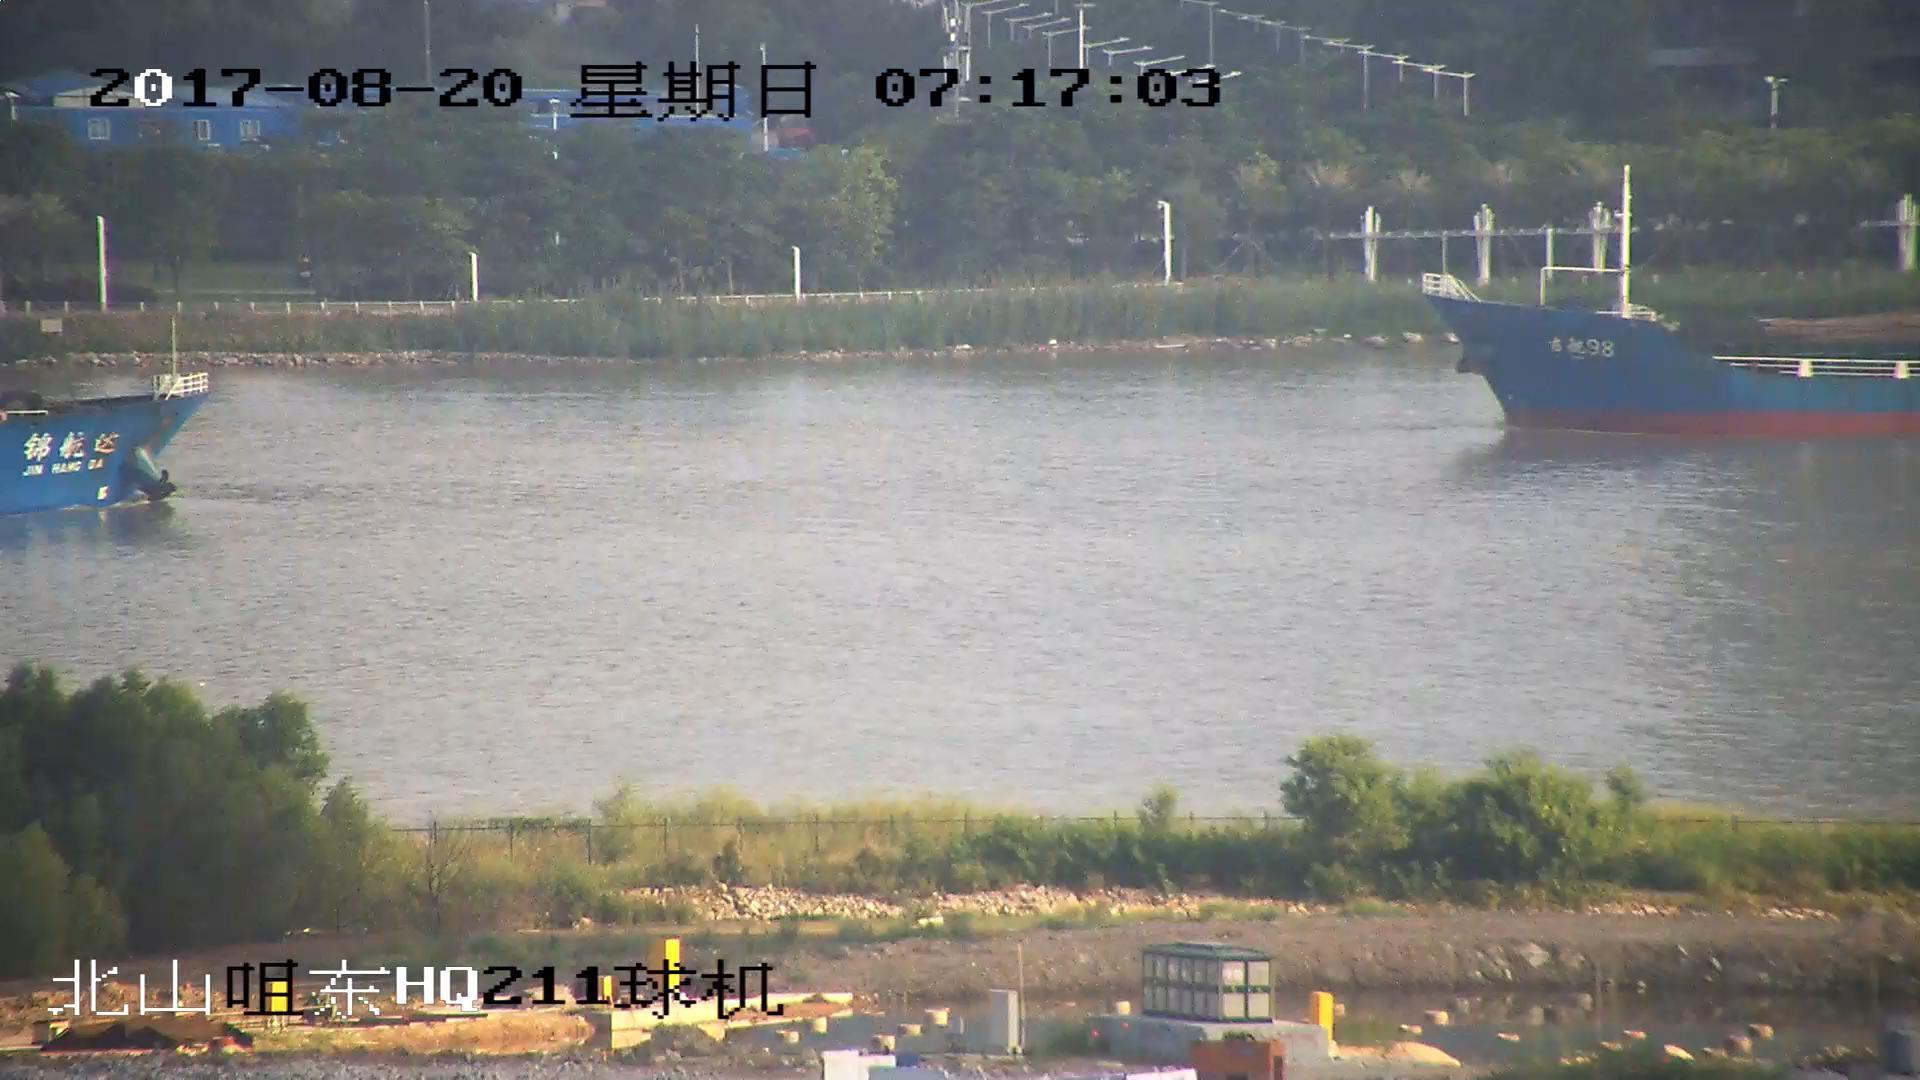Ship: (1433, 193, 1920, 439), (3, 359, 196, 527)
